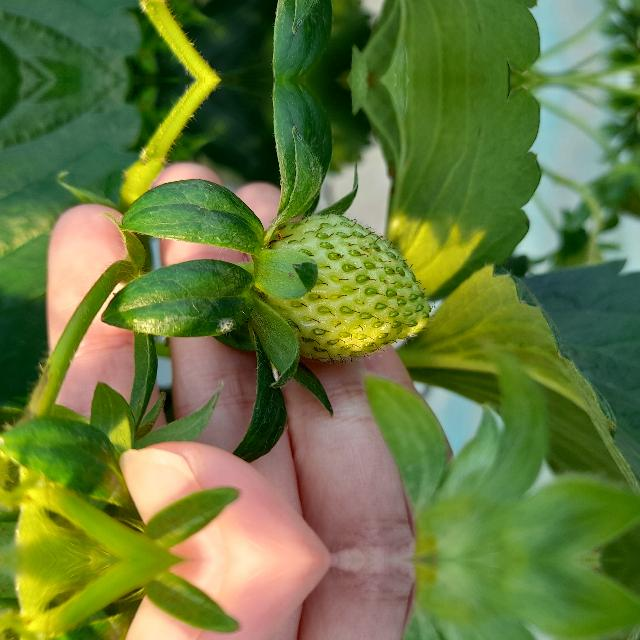Health_25: (262, 210, 434, 364)
